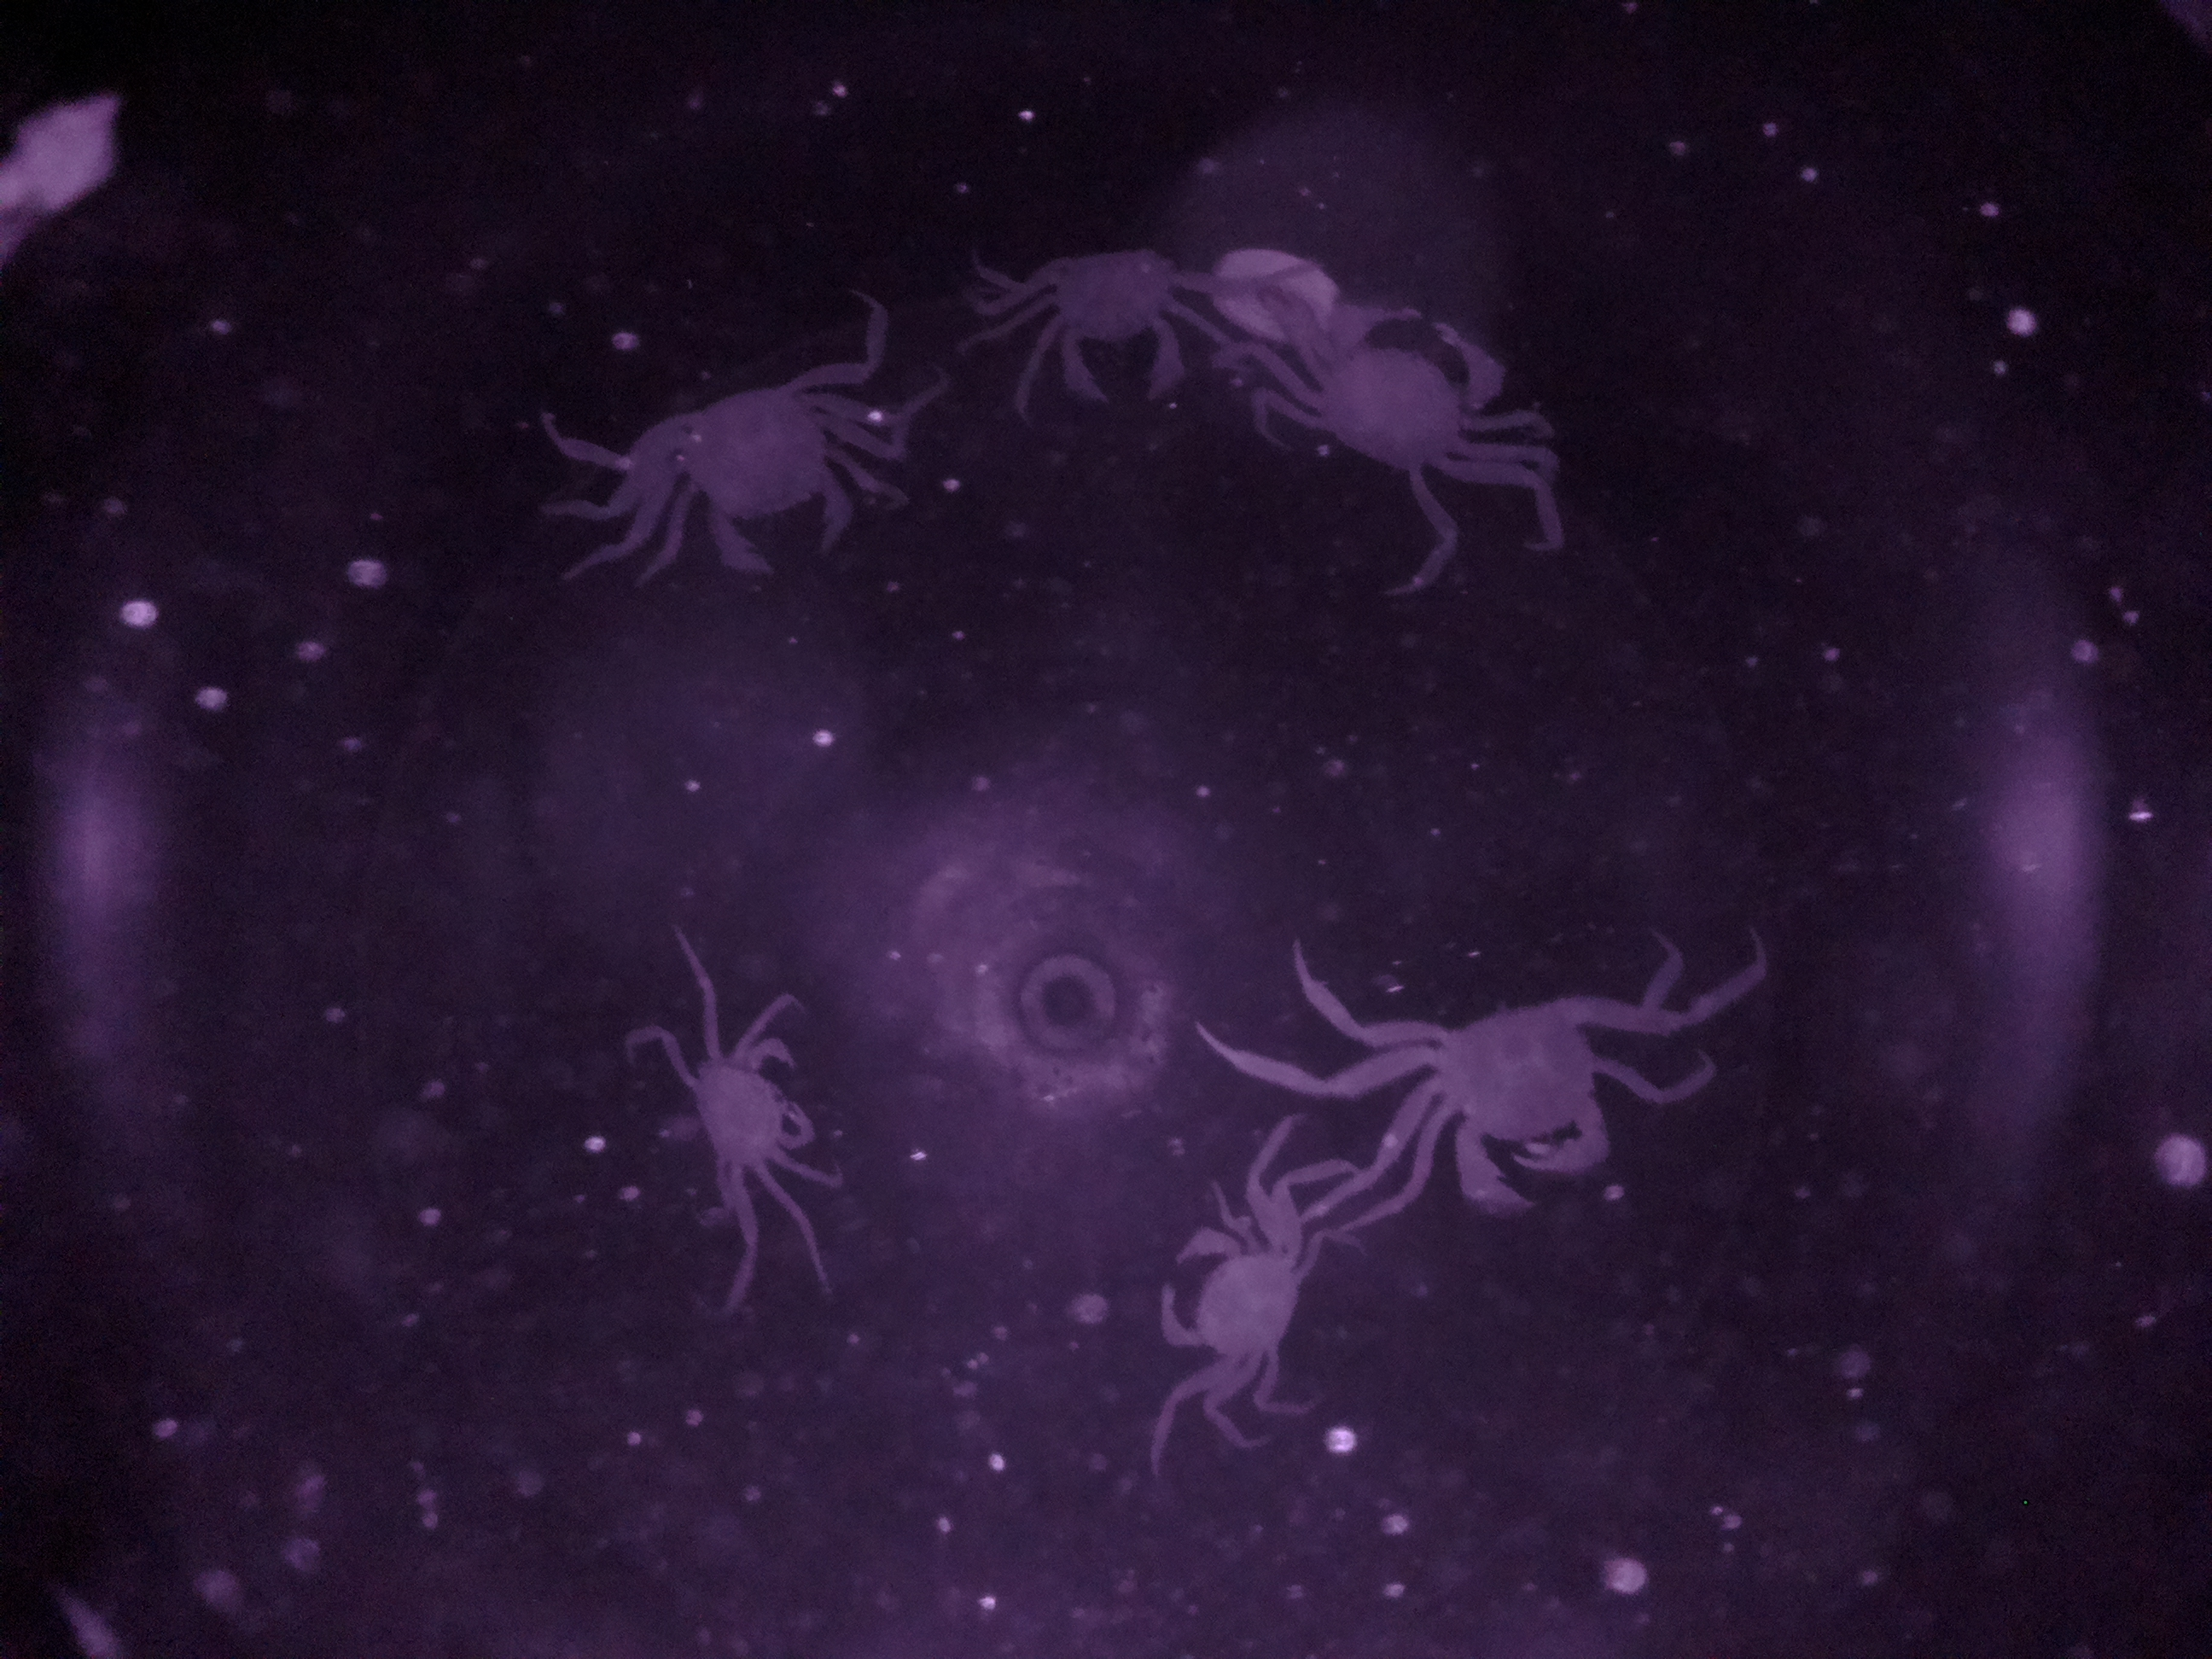Crab: (1360, 979, 1648, 1215), (627, 364, 887, 603), (1266, 288, 1519, 502), (1130, 1187, 1332, 1420), (1008, 239, 1224, 429), (667, 999, 836, 1199)
